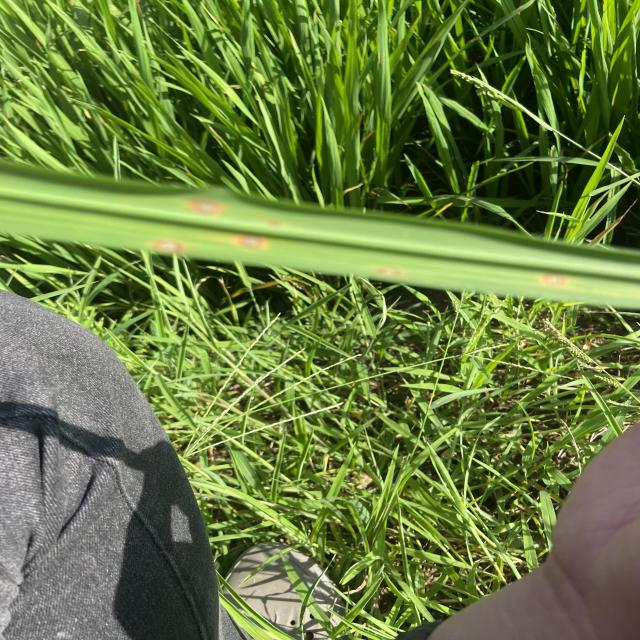Dao on: (243, 237, 259, 248), (198, 202, 214, 212), (378, 268, 394, 275), (548, 276, 560, 284), (162, 242, 174, 249)
